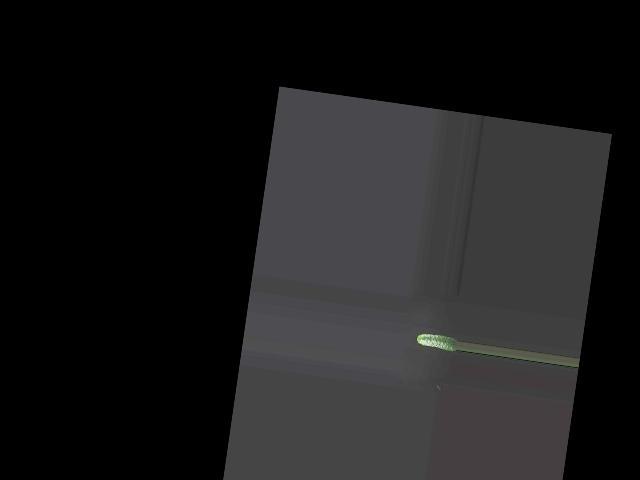cucumber: (416, 332, 458, 352)
